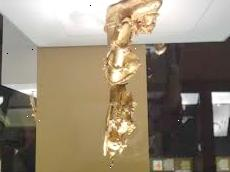golden_tara_of_agusan: (94, 0, 170, 170)
